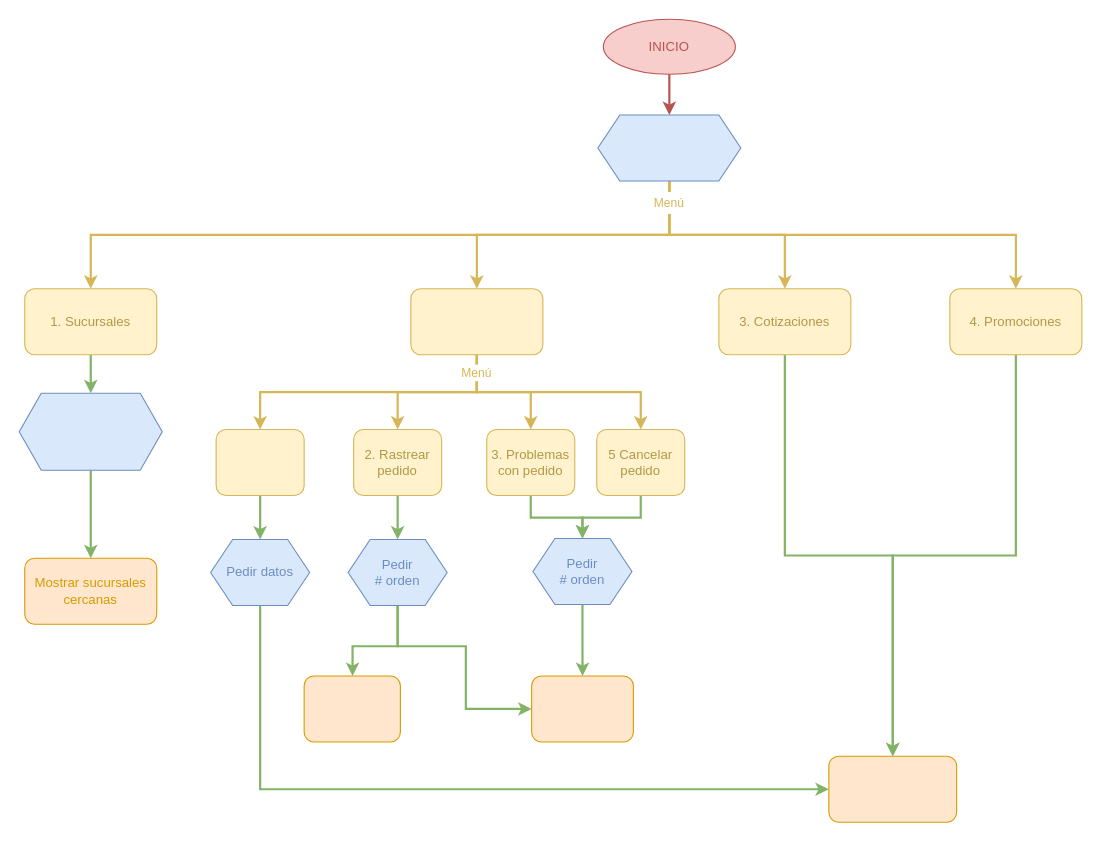
This 1101x842 diagram has some shape labels left out. The centre of each missing label's shape, as x and y in pixels:
1. Comprar: the point at 259,462
2. Tienda en línea: the point at 476,321
Contactar con agente de ventas.: the point at 892,788
Contactar con agente.: the point at 582,708
Preguntar el Estado: the point at 90,431
Saludo del Chatbot: the point at 669,147
Status de pedido: the point at 351,708
